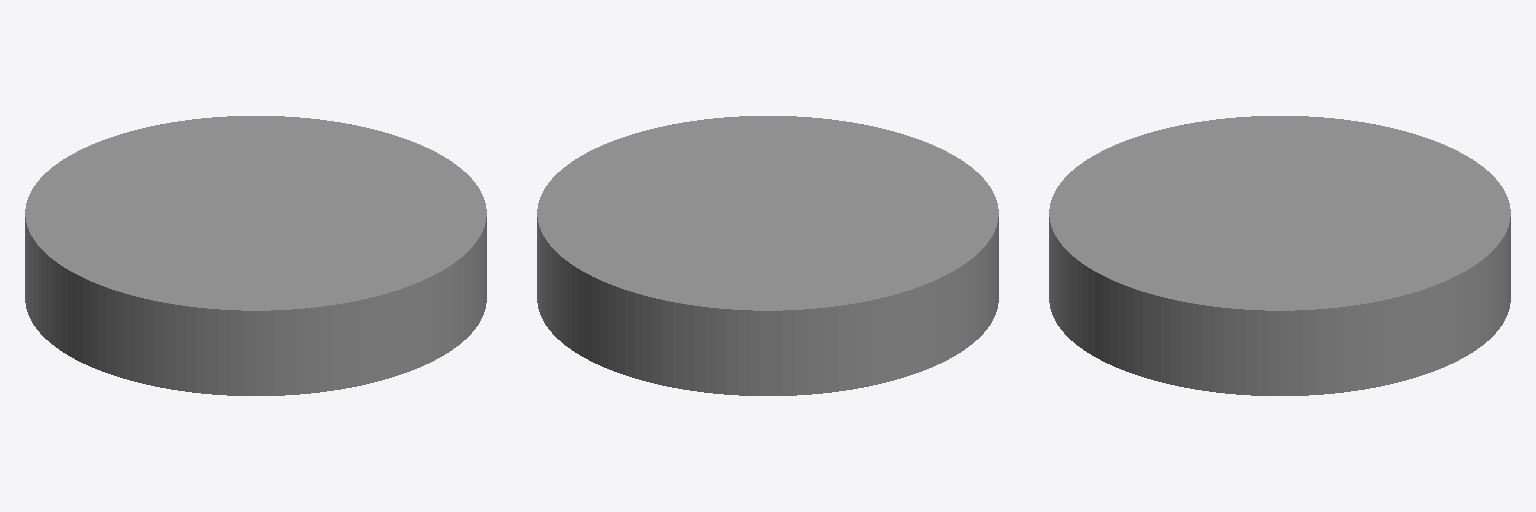
File: ph_contrast.obj
The picture shows the model from 3 angles: view 1: azimuth 30°, elevation 25°; view 2: azimuth 150°, elevation 25°; view 3: azimuth 270°, elevation 25°; orthographic projection.
Visible parts, largest first — view 1: outer_Cylinder; view 2: outer_Cylinder; view 3: outer_Cylinder.
Boxes of the visible parts, x1=… form: outer_Cylinder: x1=25, y1=116, x2=486, y2=395; outer_Cylinder: x1=537, y1=116, x2=998, y2=395; outer_Cylinder: x1=1049, y1=116, x2=1510, y2=395.
Bounding box in the file's own units: 1.97 × 0.4025 × 1.97.